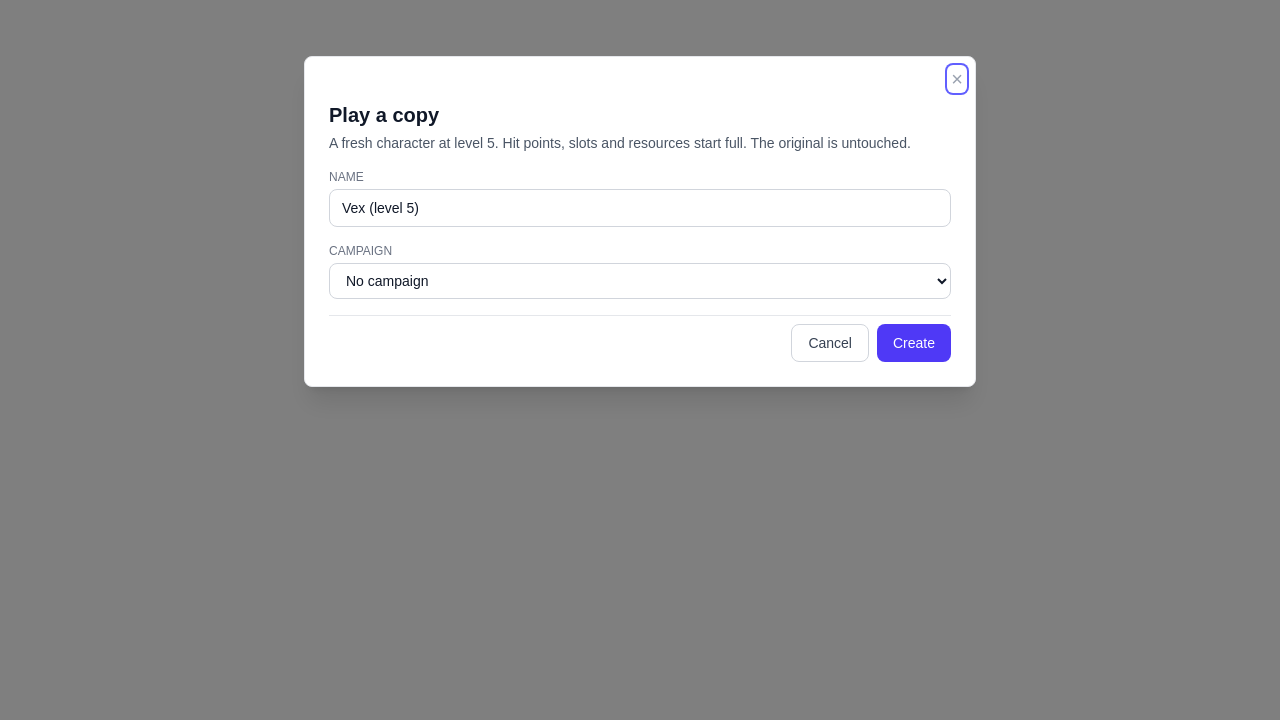
Scenario: PlayCopyDialog (VEG-646) › disables Create while the copy is in flight
Expected: the dropdown labelled "Campaign" is enabled, [329, 263, 951, 299]
Click the button "Create" at [914, 343], box [877, 324, 951, 362]
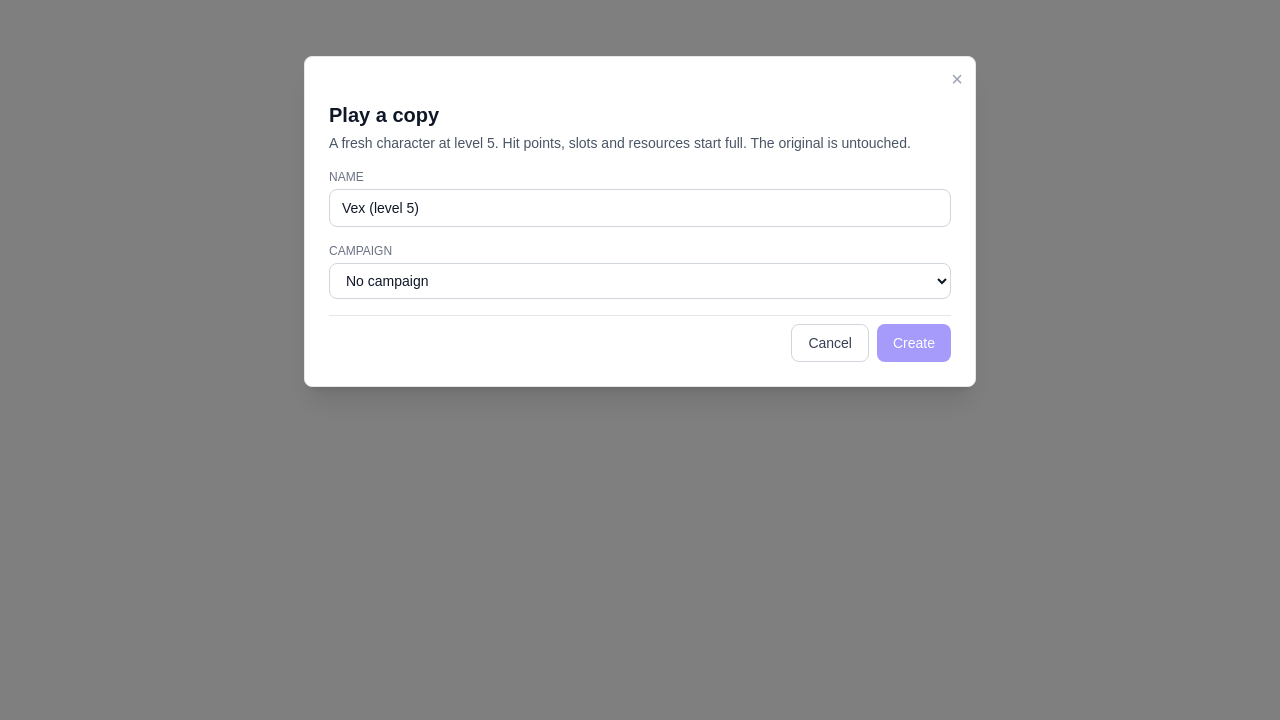
Expected: the button "Create" is disabled, [877, 324, 951, 362]
